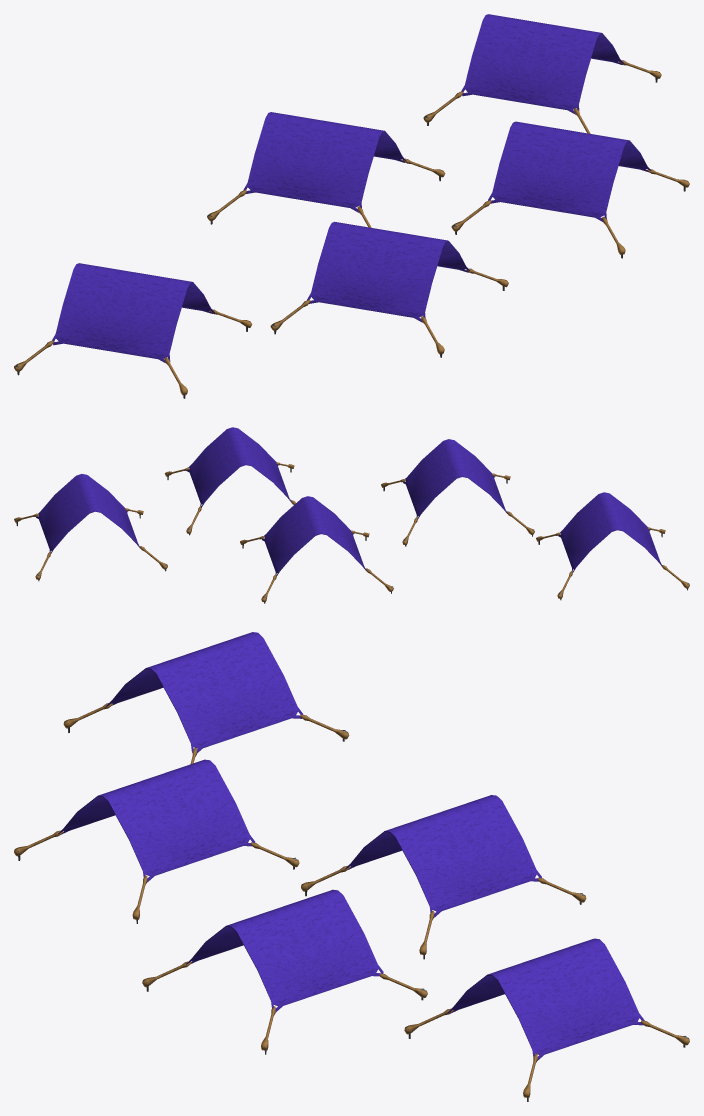
File: Tarps_DarkBlue.obj
3 renders of one model, top to bottom at view 1: azimuth 30°, elevation 25°; view 2: azimuth 150°, elevation 25°; view 3: azimuth 270°, elevation 25°, orthographic. The views are drawn at different scales.
Parts seen in each view (by area): view 1: Tarp_Tan.002_Material.208, Tarp_Tan.003_Material.208, Tarp_Tan_Material.208, Tarp_Tan.001_Material.208, Tarp_Tan.004_Material.208, Tent_Stakes.002_Material.148, Tent_Stakes.003_Material.148, Tent_Stakes.004_Material.148; view 2: Tarp_Tan.002_Material.208, Tarp_Tan.004_Material.208, Tarp_Tan.001_Material.208, Tarp_Tan.003_Material.208, Tarp_Tan_Material.208, Tent_Stakes_Material.148, Tent_Stakes.004_Material.148, Tent_Stakes.001_Material.148, Tent_Stakes.003_Material.148; view 3: Tarp_Tan.002_Material.208, Tarp_Tan.001_Material.208, Tarp_Tan_Material.208, Tarp_Tan.003_Material.208, Tarp_Tan.004_Material.208, Tent_Stakes.001_Material.148, Tent_Stakes.002_Material.148, Tent_Stakes_Material.148, Tent_Stakes.003_Material.148.
Boxes of the visible parts, x1=… form: Tarp_Tan.002_Material.208: x1=488, y1=121, x2=651, y2=221; Tarp_Tan.003_Material.208: x1=307, y1=221, x2=469, y2=322; Tarp_Tan_Material.208: x1=461, y1=14, x2=624, y2=114; Tarp_Tan.001_Material.208: x1=243, y1=112, x2=406, y2=212; Tarp_Tan.004_Material.208: x1=52, y1=263, x2=214, y2=362; Tent_Stakes.002_Material.148: x1=451, y1=169, x2=689, y2=258; Tent_Stakes.003_Material.148: x1=270, y1=268, x2=508, y2=357; Tent_Stakes.004_Material.148: x1=14, y1=309, x2=252, y2=398; Tarp_Tan.002_Material.208: x1=187, y1=427, x2=291, y2=507; Tarp_Tan.004_Material.208: x1=558, y1=492, x2=662, y2=572; Tarp_Tan.001_Material.208: x1=262, y1=496, x2=366, y2=576; Tarp_Tan.003_Material.208: x1=403, y1=439, x2=507, y2=519; Tarp_Tan_Material.208: x1=36, y1=474, x2=140, y2=553; Tent_Stakes_Material.148: x1=14, y1=508, x2=167, y2=581; Tent_Stakes.004_Material.148: x1=536, y1=527, x2=689, y2=600; Tent_Stakes.001_Material.148: x1=240, y1=530, x2=393, y2=603; Tent_Stakes.003_Material.148: x1=381, y1=473, x2=534, y2=546; Tarp_Tan.002_Material.208: x1=186, y1=889, x2=383, y2=1011; Tarp_Tan.001_Material.208: x1=344, y1=795, x2=541, y2=917; Tarp_Tan_Material.208: x1=447, y1=938, x2=644, y2=1060; Tarp_Tan.003_Material.208: x1=58, y1=759, x2=255, y2=882; Tarp_Tan.004_Material.208: x1=106, y1=632, x2=303, y2=753; Tent_Stakes.001_Material.148: x1=301, y1=866, x2=586, y2=959; Tent_Stakes.002_Material.148: x1=142, y1=961, x2=427, y2=1054; Tent_Stakes_Material.148: x1=404, y1=1008, x2=689, y2=1101; Tent_Stakes.003_Material.148: x1=14, y1=830, x2=299, y2=923.
Size of the model in its own units: 14.81 by 1.42 by 9.89.
